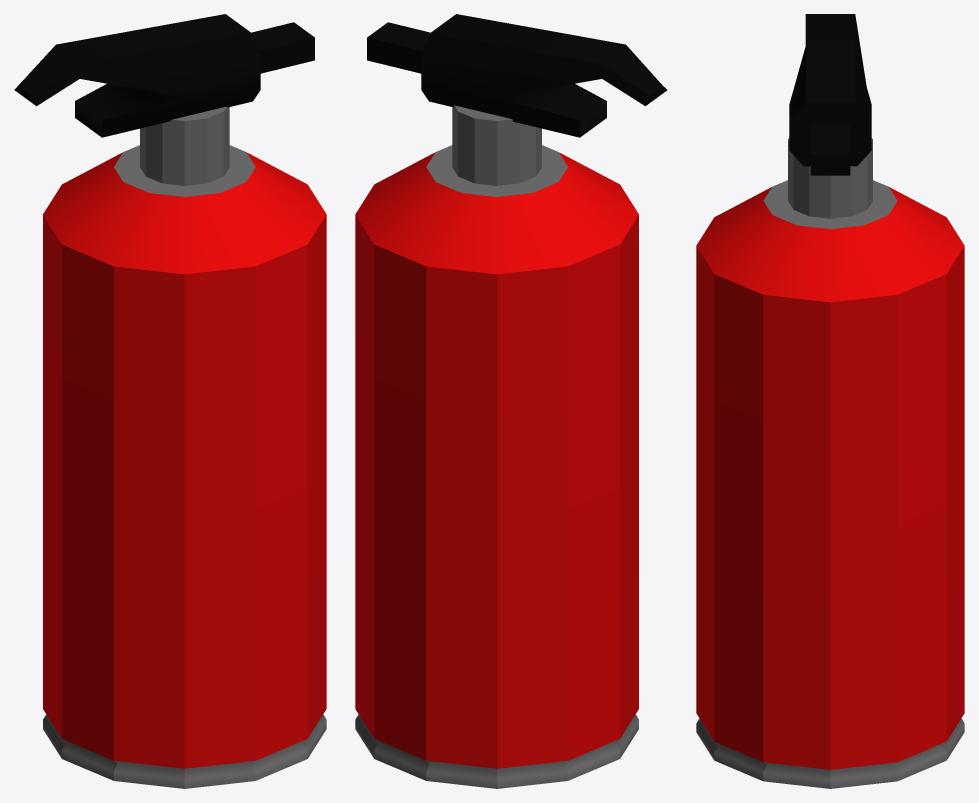
Rendered from sm_fire_ext02.fbx.
The picture shows the model from 3 angles, left to right: view 1: azimuth 30°, elevation 25°; view 2: azimuth 150°, elevation 25°; view 3: azimuth 270°, elevation 25°; orthographic projection. The views are drawn at different scales.
Visible parts, largest first — view 1: group2; view 2: group2; view 3: group2.
Part boxes in pixels (x1=…): group2: x1=14, y1=14, x2=326, y2=788; group2: x1=355, y1=14, x2=667, y2=788; group2: x1=696, y1=14, x2=964, y2=788.
Bounding box in the file's own units: 459 × 1093 × 400.
